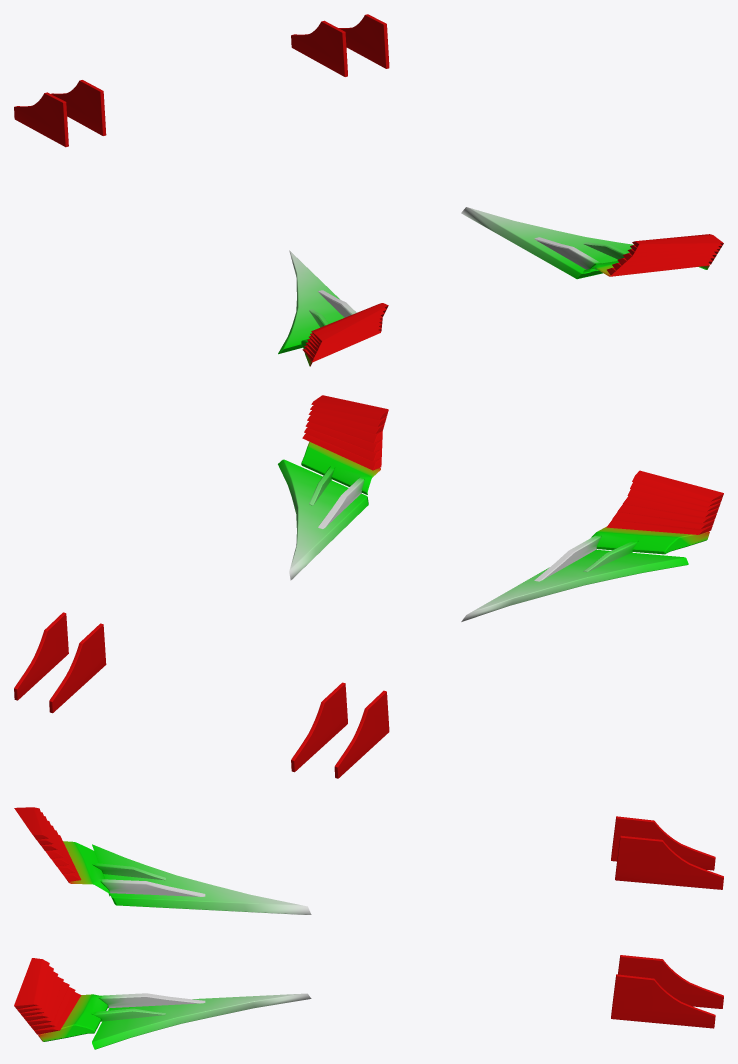
File: X-Wing_Bodykit_LOD0.fbx
3 views of the same model, one above another, from view 1: azimuth 30°, elevation 25°; view 2: azimuth 150°, elevation 25°; view 3: azimuth 270°, elevation 25° (orthographic).
Parts seen in each view (by area): view 1: SM_X-Wing_BodyKit_LOD0; view 2: SM_X-Wing_BodyKit_LOD0; view 3: SM_X-Wing_BodyKit_LOD0.
Part boxes in pixels (x1,y1,x2,y2): SM_X-Wing_BodyKit_LOD0: [14, 14, 723, 366]; SM_X-Wing_BodyKit_LOD0: [14, 395, 723, 778]; SM_X-Wing_BodyKit_LOD0: [14, 807, 723, 1049].
Size of the model in its own units: 1.76 by 2.61 by 0.2499.
